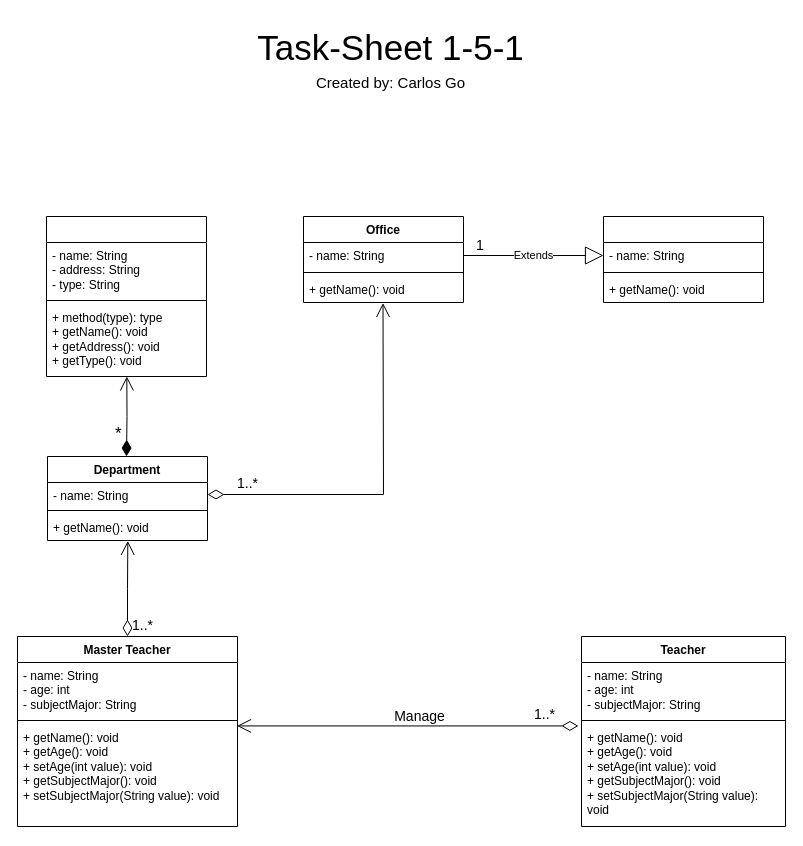
Some shapes in this 803 by 846 pixel diagram are drawn without their labels. The shapes that lost their labels are listed below. From the top down, each one's box as (x1, y1, x2, y2) in pixels, then its label:
(602, 216, 764, 302): FacultyRoom
(46, 216, 206, 376): School
